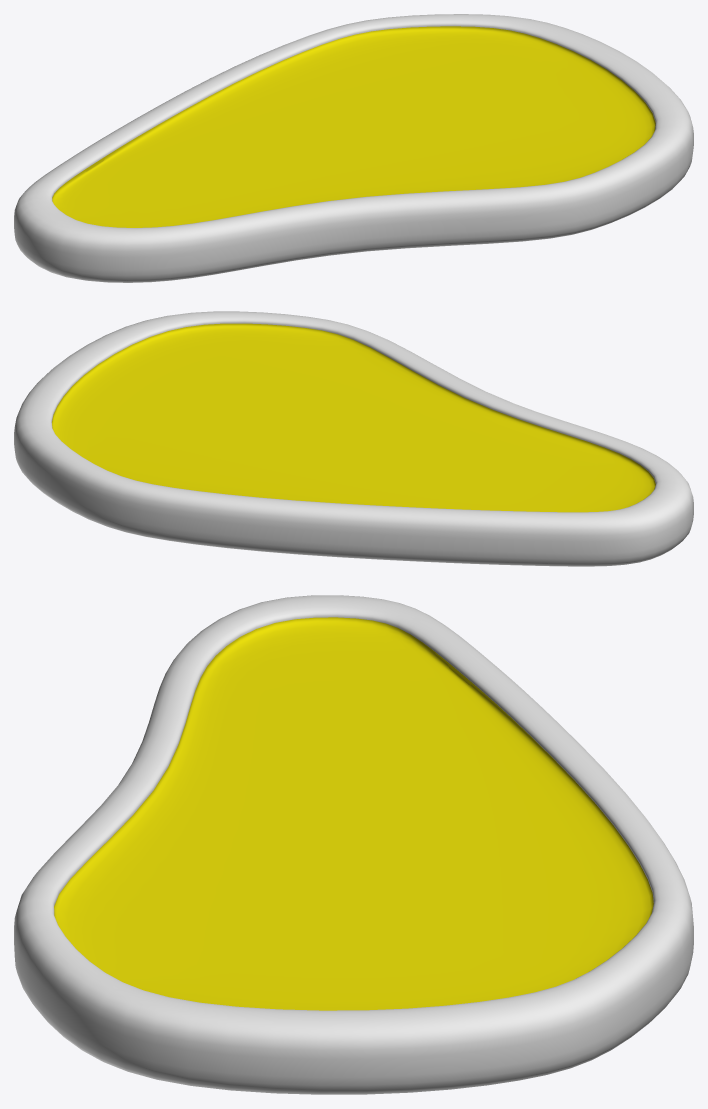
File: Steak.fbx
The picture shows the model from 3 angles, top to bottom: view 1: azimuth 30°, elevation 25°; view 2: azimuth 150°, elevation 25°; view 3: azimuth 270°, elevation 25°; orthographic projection. The views are drawn at different scales.
Visible parts, largest first — view 1: Plane.011, Plane.009; view 2: Plane.011, Plane.009; view 3: Plane.011, Plane.009.
Part boxes in pixels (left/top/right/bottom): Plane.011: left=52, top=26, right=655, bottom=227; Plane.009: left=14, top=14, right=693, bottom=282; Plane.011: left=52, top=323, right=655, bottom=512; Plane.009: left=14, top=311, right=693, bottom=566; Plane.011: left=54, top=617, right=653, bottom=1010; Plane.009: left=14, top=595, right=693, bottom=1094.
Bounding box in the file's own units: 262 × 19.67 × 168.
